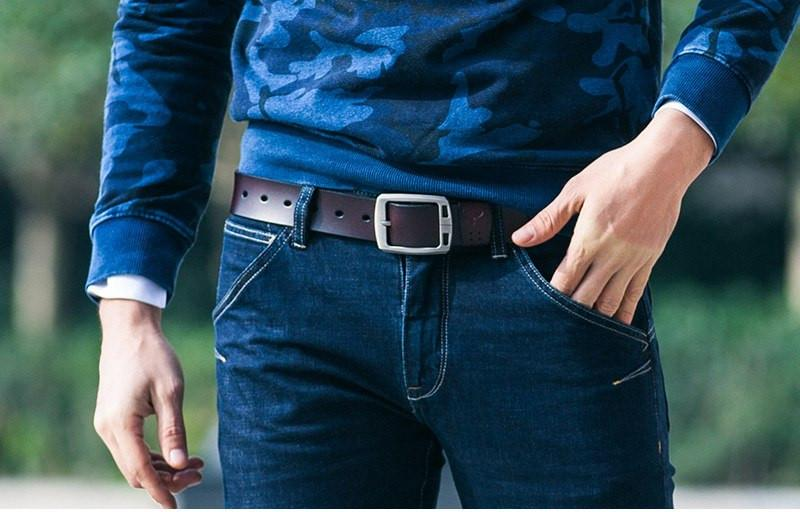C_jeans: (216, 181, 674, 512)
F_belt: (225, 180, 522, 262)
